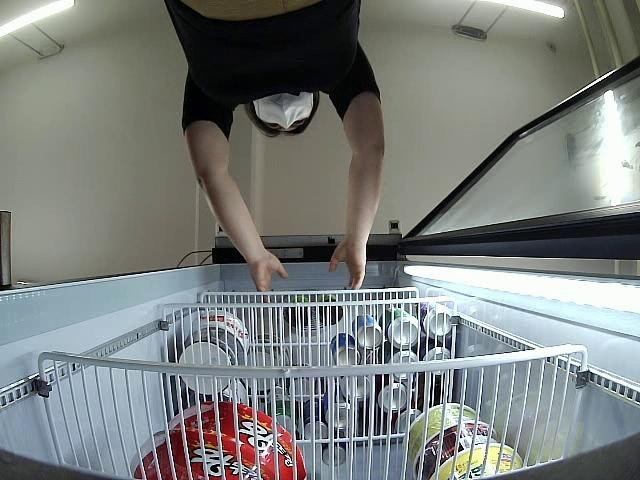00_hand: (327, 235, 369, 289), (249, 247, 288, 295)
